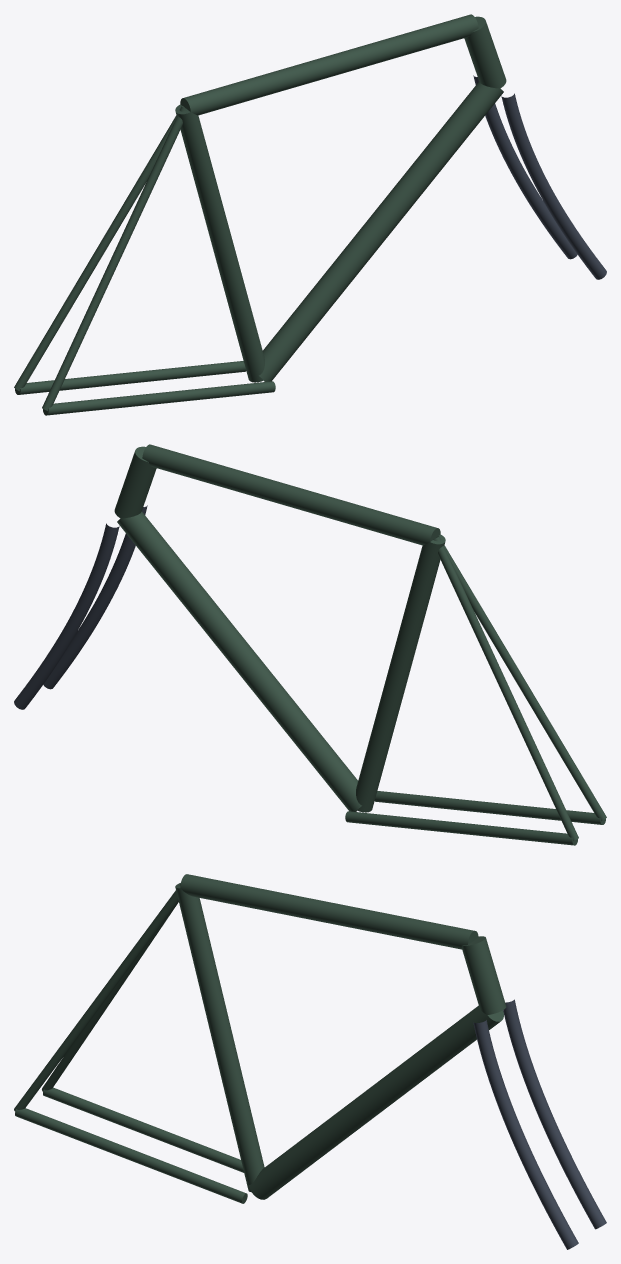
Rendered from skream-ranger-s.glb.
The picture shows the model from 3 angles, top to bottom: view 1: azimuth 30°, elevation 25°; view 2: azimuth 150°, elevation 25°; view 3: azimuth 330°, elevation 25°; orthographic projection.
Visible parts, largest first — view 1: paint_down, paint_top, paint_seat, paint_seatstay_0.045, fork_0.045, paint_chainstay_0.045, paint_seatstay_-0.045, paint_chainstay_-0.045, fork_-0.045, paint_head; view 2: paint_down, paint_top, paint_seat, paint_seatstay_-0.045, fork_-0.045, paint_chainstay_-0.045, paint_seatstay_0.045, paint_chainstay_0.045, fork_0.045, paint_head; view 3: paint_down, paint_seat, paint_top, fork_0.045, fork_-0.045, paint_chainstay_0.045, paint_chainstay_-0.045, paint_seatstay_0.045, paint_head, paint_seatstay_-0.045.
Part boxes in pixels (x1,y1,x2,y2): paint_down: (259,81,503,381); paint_top: (180,14,478,115); paint_seat: (175,104,264,382); paint_seatstay_0.045: (42,107,187,410); fork_0.045: (501,93,606,279); paint_chainstay_0.045: (43,381,275,415); paint_seatstay_-0.045: (14,106,184,391); paint_chainstay_-0.045: (15,361,246,394); fork_-0.045: (473,75,577,259); paint_head: (464,16,506,88); paint_down: (117,511,361,811); paint_top: (142,444,440,545); paint_seat: (356,534,445,812); paint_seatstay_-0.045: (433,537,578,840); fork_-0.045: (14,523,119,709); paint_chainstay_-0.045: (345,811,577,845); paint_seatstay_0.045: (436,536,606,821); paint_chainstay_0.045: (374,791,605,824); fork_0.045: (43,505,147,689); paint_head: (114,446,156,518); paint_down: (249,1005,503,1199); paint_seat: (175,883,264,1192); paint_top: (180,874,478,949); fork_0.045: (473,1020,578,1249); fork_-0.045: (503,999,606,1229); paint_chainstay_0.045: (15,1108,247,1203); paint_chainstay_-0.045: (43,1087,243,1172); paint_seatstay_0.045: (14,884,180,1111); paint_head: (462,936,506,1014); paint_seatstay_-0.045: (42,901,178,1091).
Size of the model in its own units: 1.04 by 0.5632 by 0.112.
